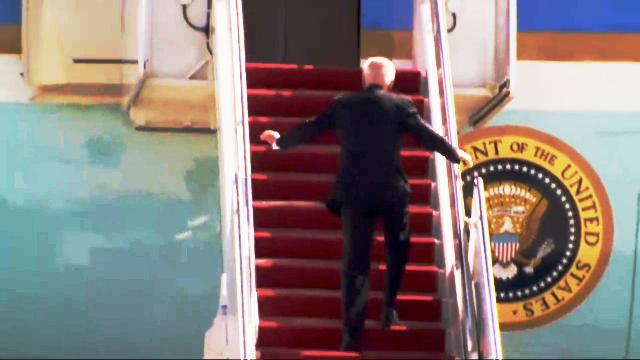berjalan: (252, 52, 480, 356)
